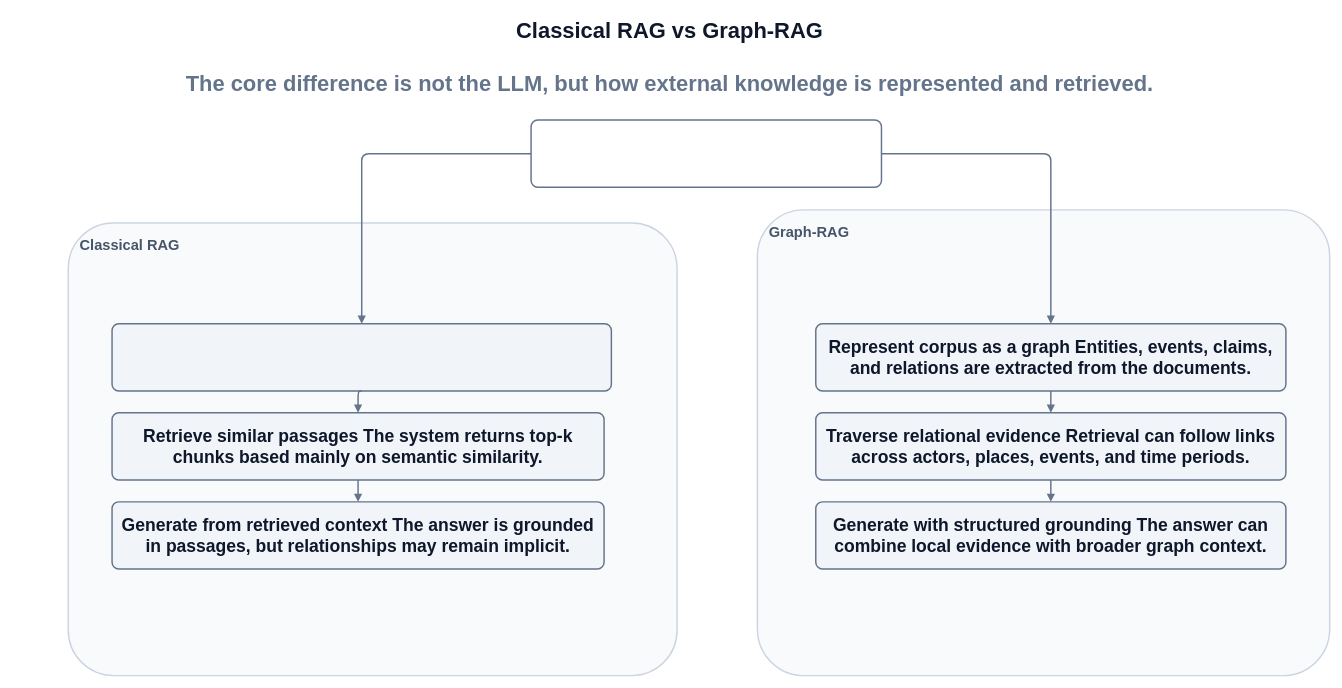
Some shapes in this 1342 by 688 pixel diagram are drawn without their labels. Each missing label, with the centre of its shape:
"Represent corpus as chunks Documents are split and embedded into a vector index." goes at (361,357).
"User Question political, temporal, or multi-hop analysis" goes at (706,153).
